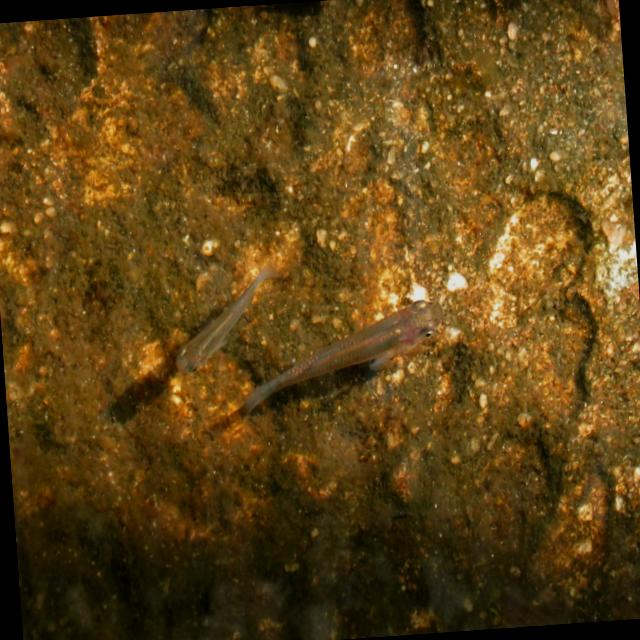Sivrisinek Baligi: (196, 293, 450, 438), (162, 258, 280, 385)
